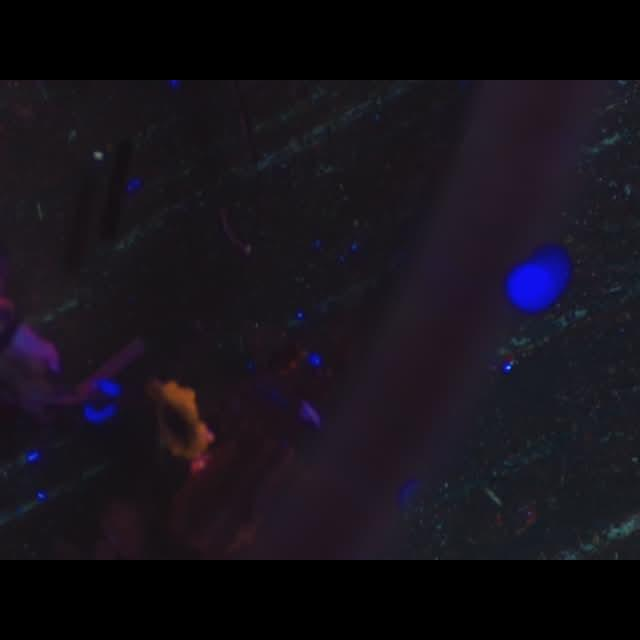microbeads: (94, 152, 105, 160)
